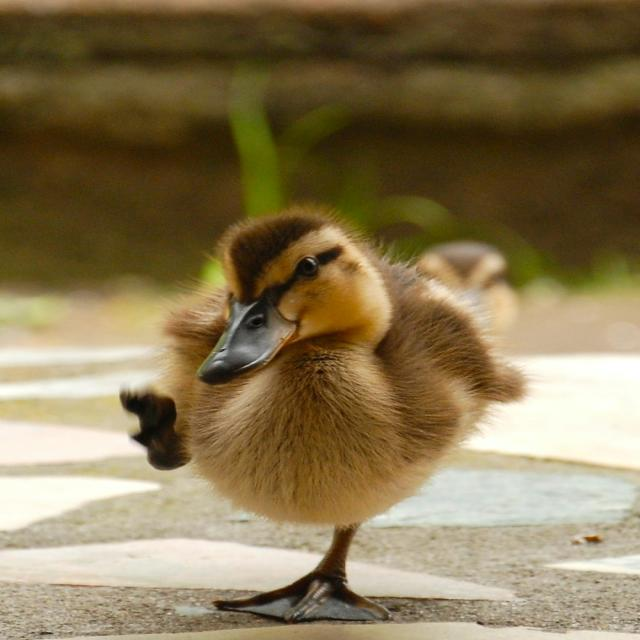ducks: (96, 143, 550, 640)
